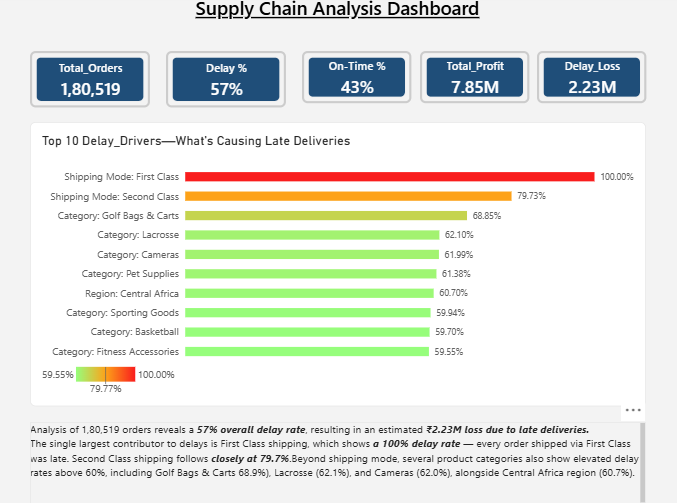

The dashboard page shown, as its layout file describes it:
{"tool":"powerbi","page":{"name":"Overall_Summary","canvas":[960,720],"ordinal":0},"visuals":[{"type":"textbox","box":[238.3,0,483.3,75.1],"z":0},{"type":"cardVisual","fields":{"Data":["supply_chain.Late_orders %"]},"box":[236.9,79.4,170,80],"z":1000},{"type":"cardVisual","fields":{"Data":["supply_chain.On_time_deliveries"]},"box":[429.8,79.4,155,74],"z":2000},{"type":"cardVisual","fields":{"Data":["CountNonNull(supply_chain.is_delayed)"]},"box":[43.9,79.4,170,80],"z":3000},{"type":"cardVisual","fields":{"Data":["supply_chain.Profit %"]},"box":[596.7,79.4,155,74],"z":4000},{"type":"cardVisual","fields":{"Data":["supply_chain.Delay_Loss"]},"box":[762.5,79.4,155,74],"z":5000},{"type":"barChart","title":"Top 10 Delay_Drivers—What''s Causing Late Deliveries","fields":{"Category":["Top_Drivers.Factor"],"Y":["Sum(Top_Drivers.Delay_Pct)"]},"box":[43.9,180,873.1,402.5],"z":6000},{"type":"textbox","box":[43.9,605.2,873.1,116.2],"z":7000}]}

Visuals, with their boxes in screenshot pixels (x1, y1, x2, y2), scaled from the page's 960x720 canvas onto the 677x503 screenshot:
textbox: locate(168, 0, 509, 52)
cardVisual - supply_chain.Late_orders %: locate(167, 55, 287, 111)
cardVisual - supply_chain.On_time_deliveries: locate(303, 55, 412, 107)
cardVisual - CountNonNull(supply_chain.is_delayed): locate(31, 55, 151, 111)
cardVisual - supply_chain.Profit %: locate(421, 55, 530, 107)
cardVisual - supply_chain.Delay_Loss: locate(538, 55, 647, 107)
"Top 10 Delay_Drivers—What''s Causing Late Deliveries" barChart: locate(31, 126, 647, 407)
textbox: locate(31, 423, 647, 502)
